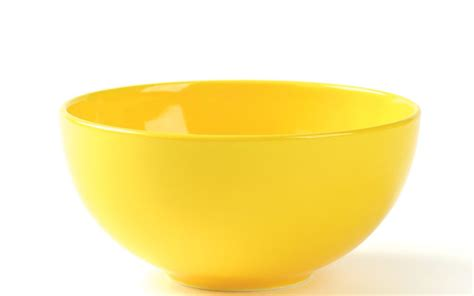???: (58, 79, 421, 292)
